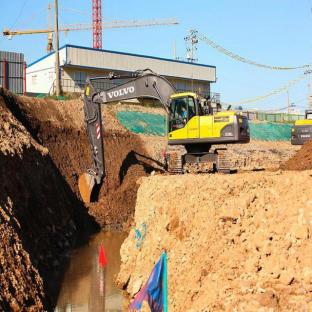ExcavationMachinery: (58, 72, 256, 209)
